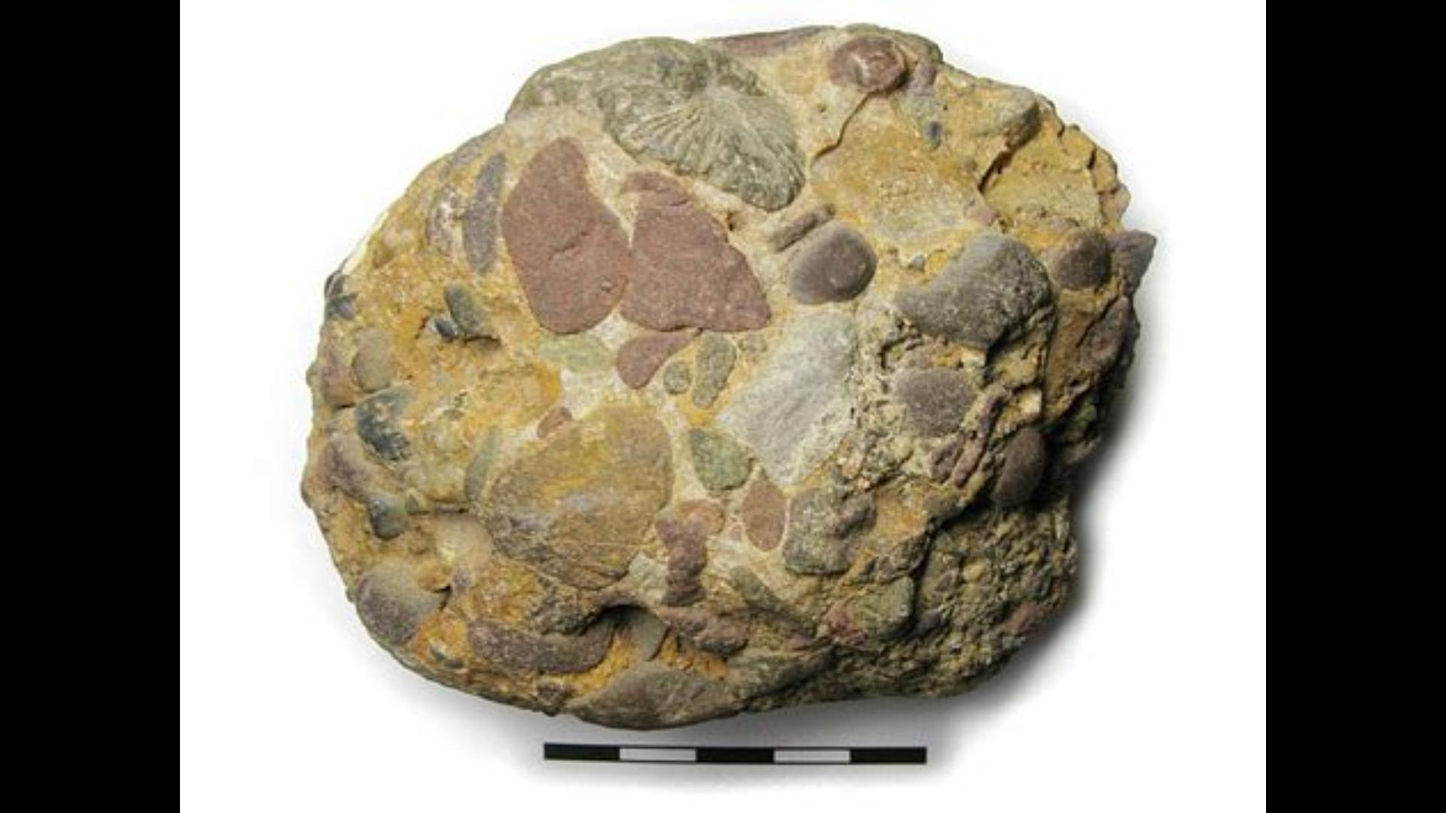rock: (304, 34, 1151, 724)
